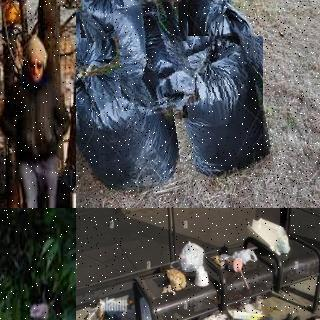Garbage: (76, 40, 184, 198), (168, 33, 269, 180), (117, 0, 194, 115), (190, 0, 257, 59), (76, 8, 120, 74), (79, 0, 144, 40), (184, 0, 229, 16)
